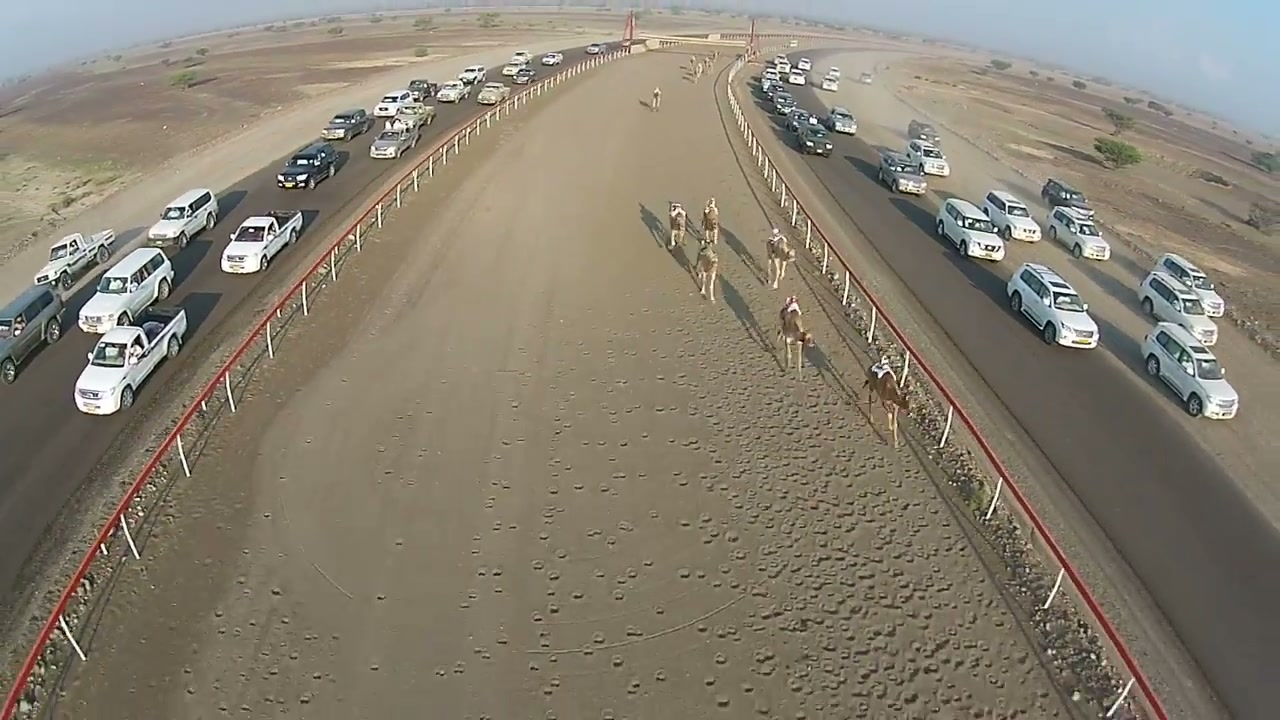animal_footprint: (519, 318, 1055, 718)
